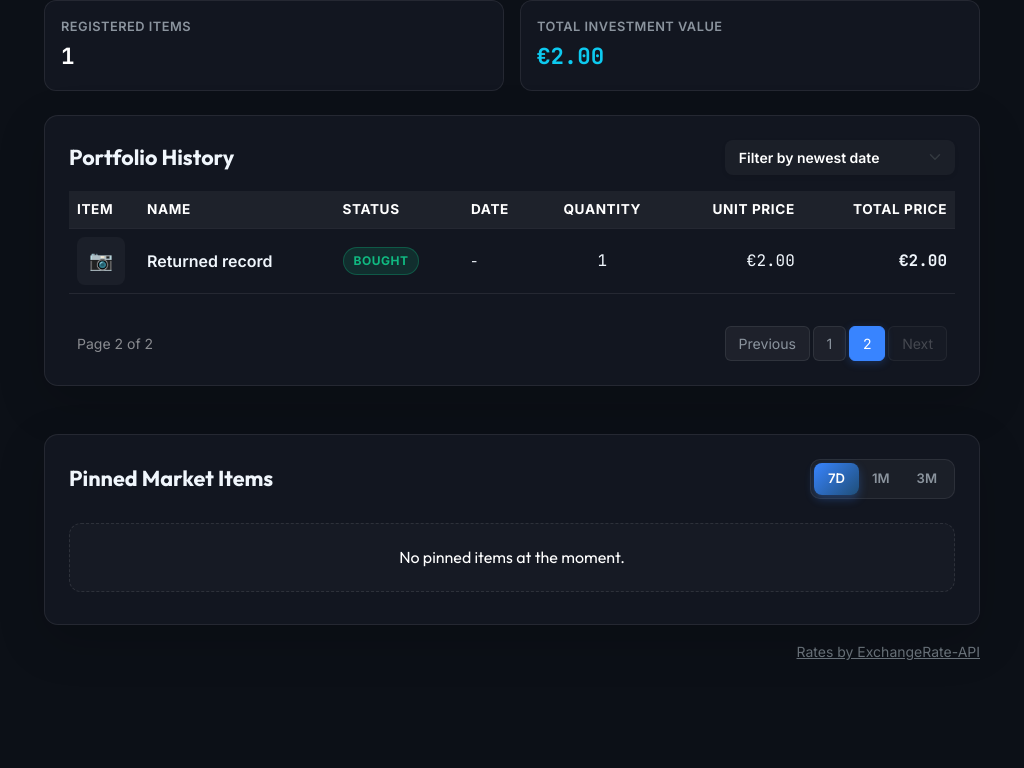
Test: restores the row anchor once after tables and totals load, not on later filters or pagination
Select "Filter by bought" in the dropdown: {"x": 840, "y": 158} [725,140,955,175]
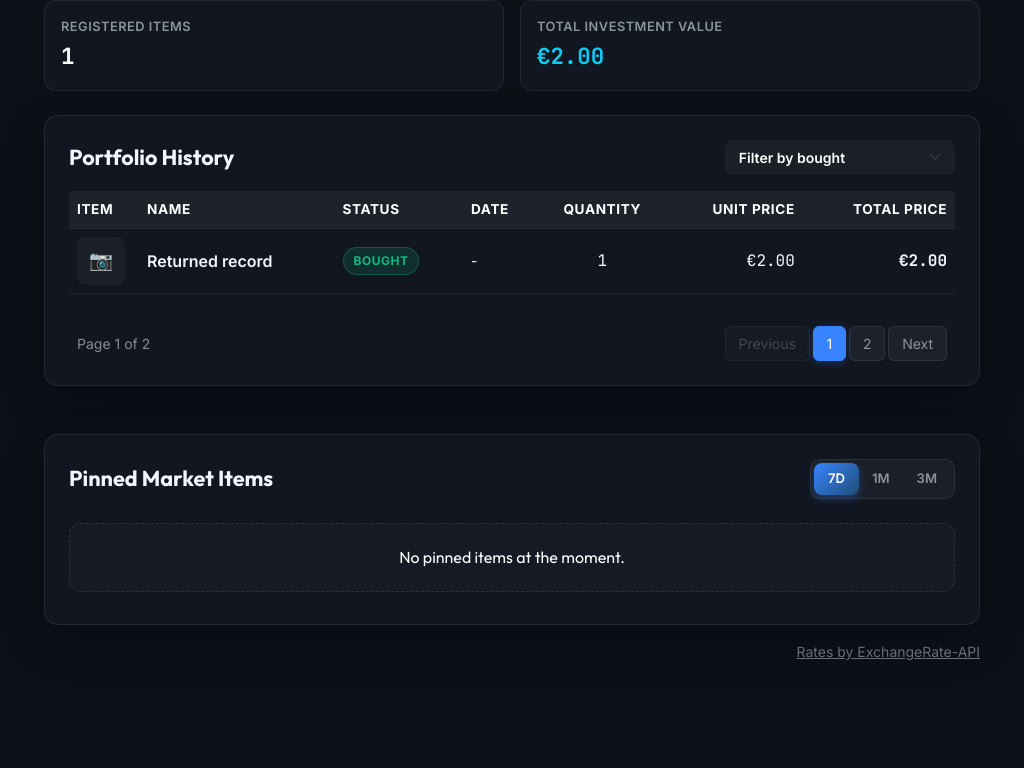
Check: the text "Page 1 of 2" is shown, box [77,333,150,354]
Click the button "Next": {"x": 918, "y": 344} [888,326,947,362]
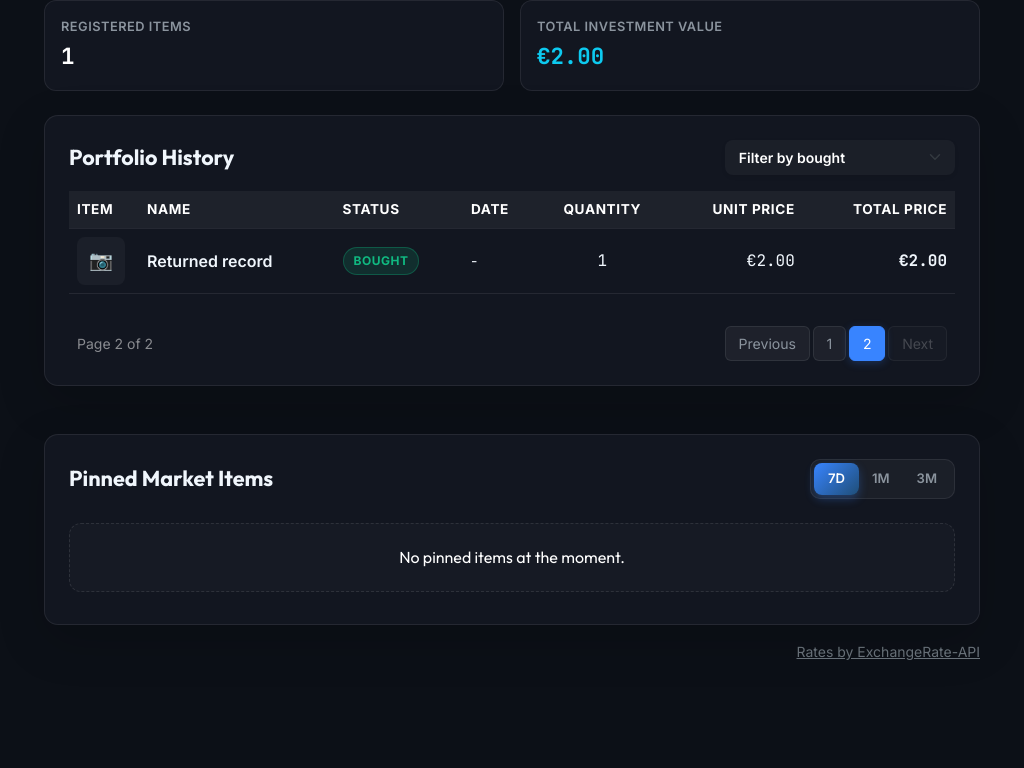
Check: the text "Page 2 of 2" is shown, box [77,333,153,354]
